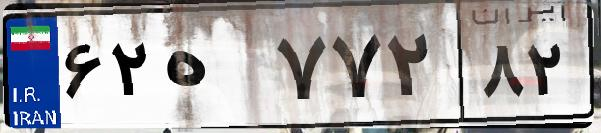2: (385, 28, 445, 110), (525, 38, 570, 115), (110, 28, 158, 98)
6: (57, 26, 110, 100)
7: (270, 28, 330, 110), (330, 28, 385, 110)
8: (475, 38, 525, 113)
ه: (158, 20, 270, 120)
